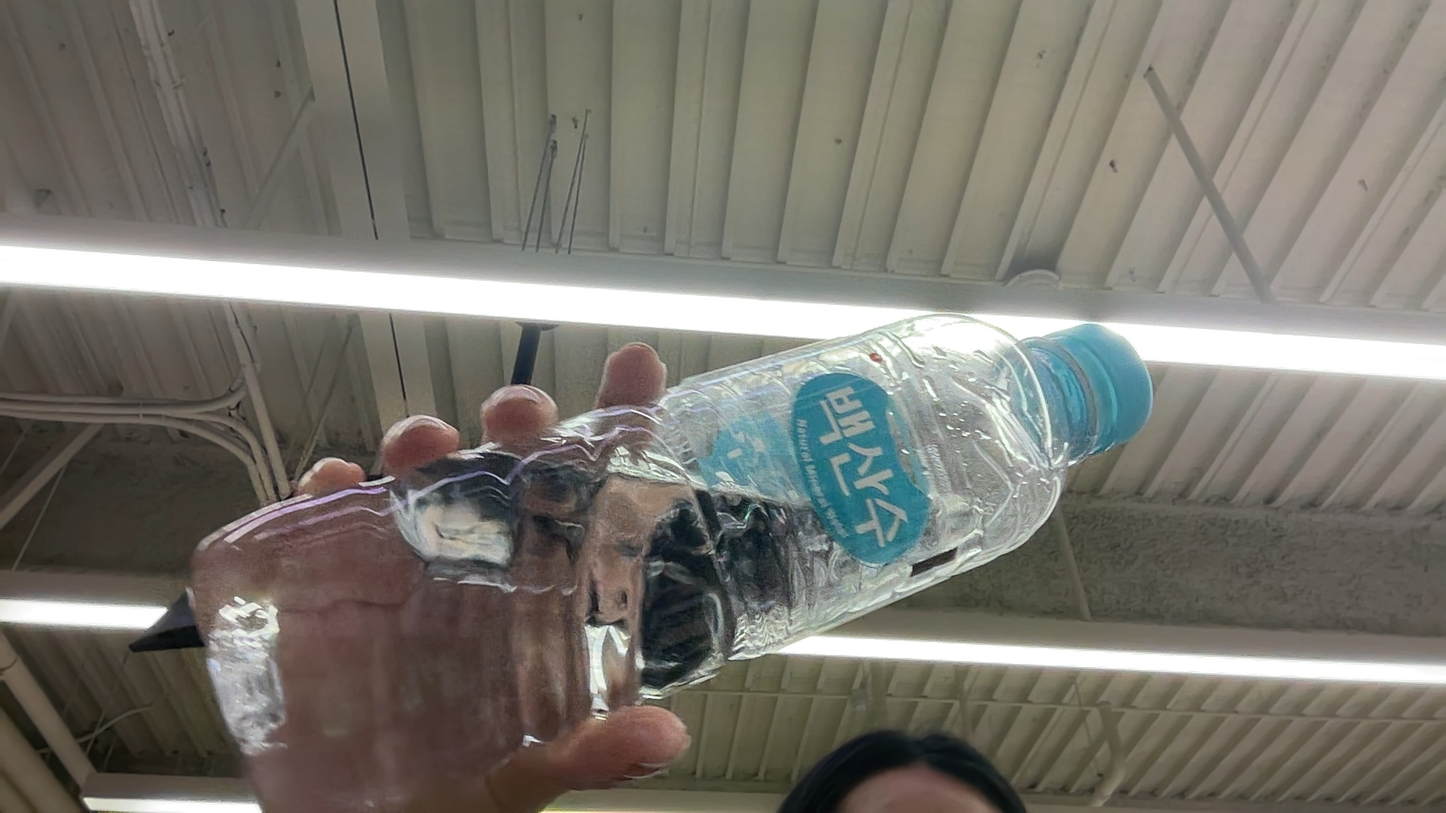Plastic: (477, 383, 555, 448)
